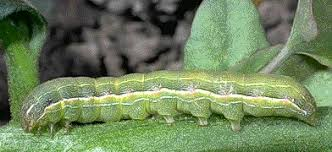Armyworm: (23, 69, 326, 135)
